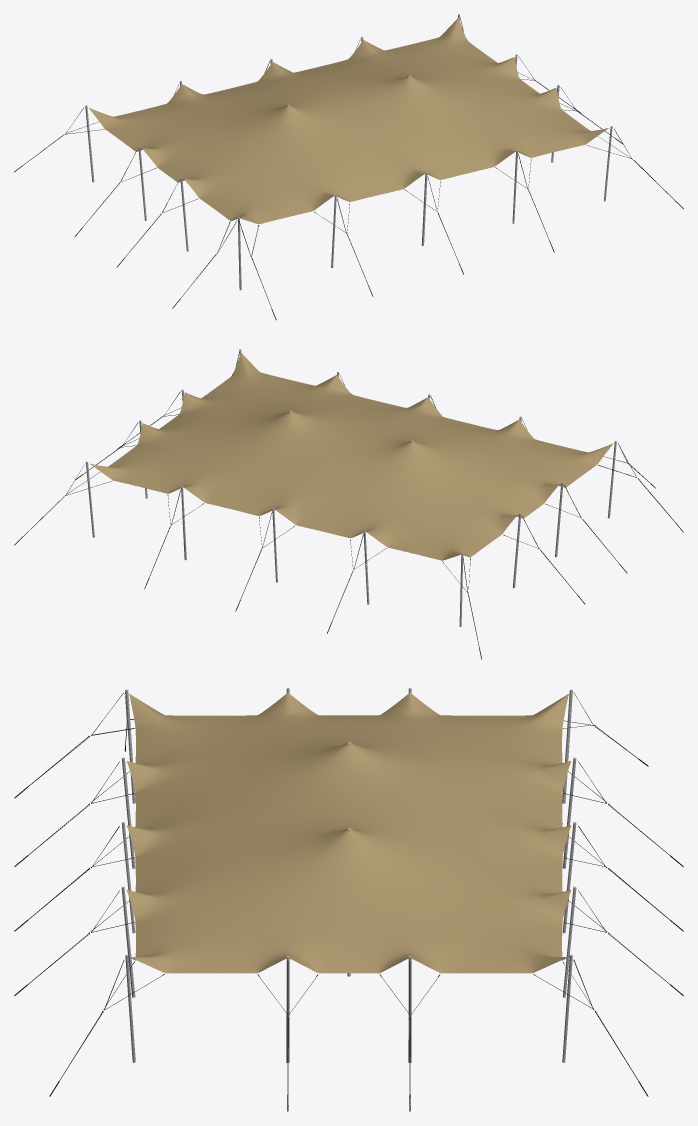
Rendered from namiotM.glb.
3 renders of one model, top to bottom at view 1: azimuth 30°, elevation 25°; view 2: azimuth 150°, elevation 25°; view 3: azimuth 270°, elevation 25°, orthographic. The views are drawn at different scales.
Visible parts, largest first — view 1: G_3DGeom_1, G_3DGeom_6, G_3DGeom_3; view 2: G_3DGeom_1, G_3DGeom_6, G_3DGeom_3; view 3: G_3DGeom_1, G_3DGeom_6, G_3DGeom_3.
Part boxes in pixels (<box>): G_3DGeom_1: <box>89,17,608,224</box>; G_3DGeom_6: <box>85,14,612,290</box>; G_3DGeom_3: <box>14,17,683,320</box>; G_3DGeom_1: <box>89,352,613,560</box>; G_3DGeom_6: <box>85,349,616,626</box>; G_3DGeom_3: <box>14,352,683,659</box>; G_3DGeom_1: <box>126,693,571,973</box>; G_3DGeom_6: <box>121,688,576,1062</box>; G_3DGeom_3: <box>14,692,683,1111</box>.
Bounding box in the file's own units: 0.2097 × 0.0401 × 0.1647.
